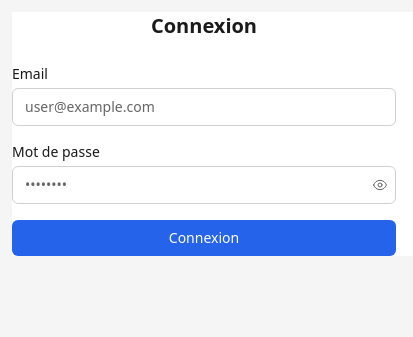
LoginForm — i18n field errors › renders field error in French when locale is fr
The width and height of the screenshot is (413, 337).
Click the button "Connexion": click(204, 238) [12,220,396,256]
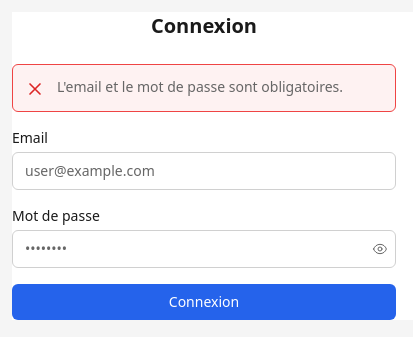
Now the text "L'email et le mot de passe sont obligatoires." is shown, box [57,77,383,97]
